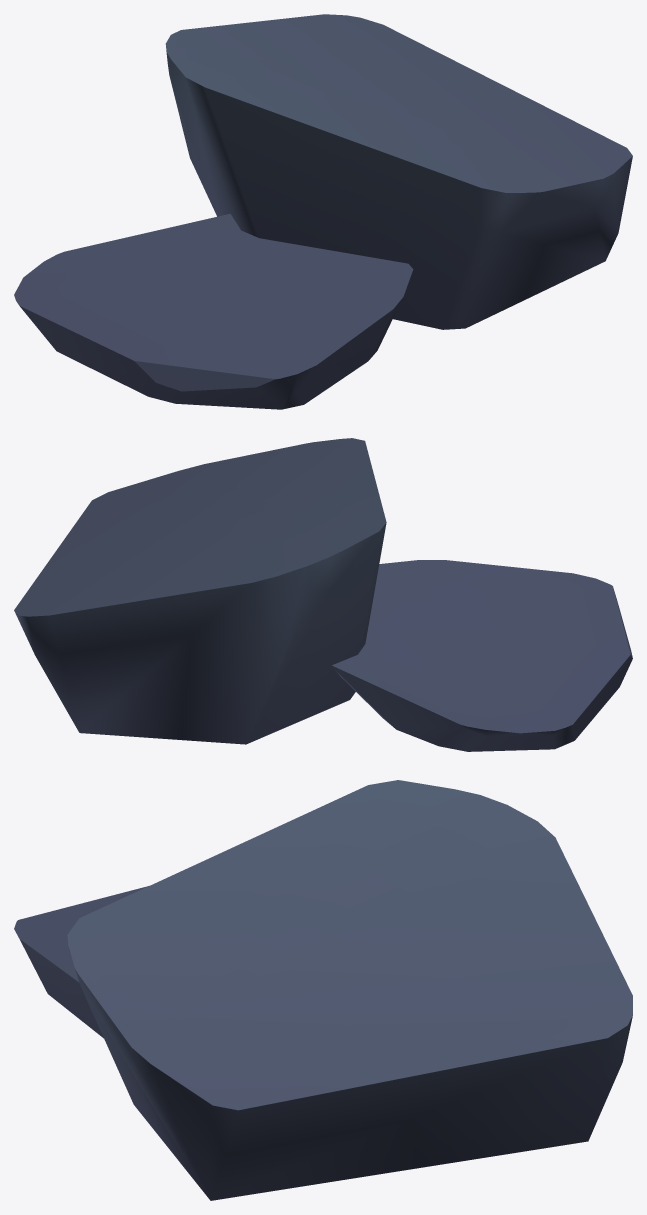
The model's file is Coal_Ore_01_lvl .fbx.
3 renders of one model, top to bottom at view 1: azimuth 30°, elevation 25°; view 2: azimuth 150°, elevation 25°; view 3: azimuth 270°, elevation 25°, orthographic. The views are drawn at different scales.
Parts seen in each view (by area): view 1: Icosphere.012; view 2: Icosphere.012; view 3: Icosphere.012.
Part boxes in pixels (x1,y1,x2,y2): Icosphere.012: (14, 14, 632, 409); Icosphere.012: (14, 438, 632, 751); Icosphere.012: (14, 780, 632, 1200).
Size of the model in its own units: 147 by 51.92 by 125.
